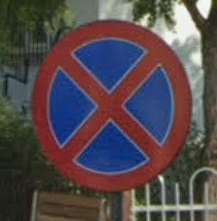oprirea_interzisa: (30, 16, 197, 195)
